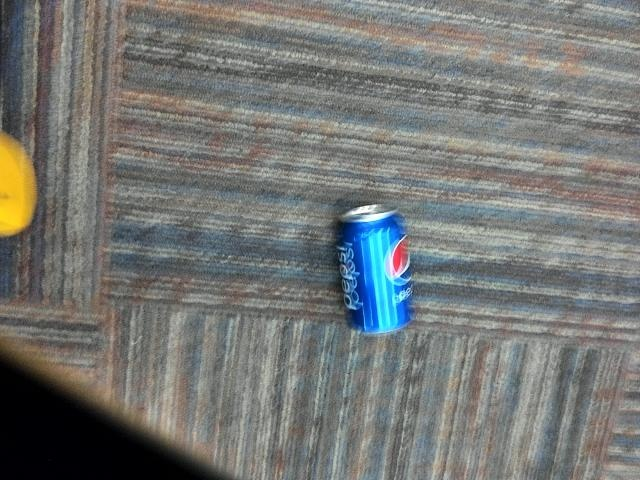can: (327, 200, 418, 352)
